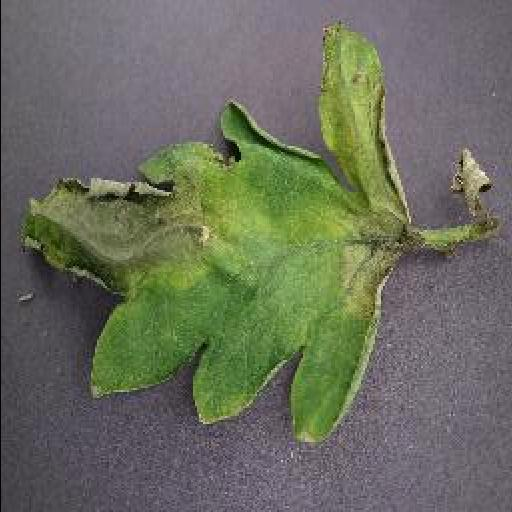disease_tomato: (20, 20, 410, 442)
